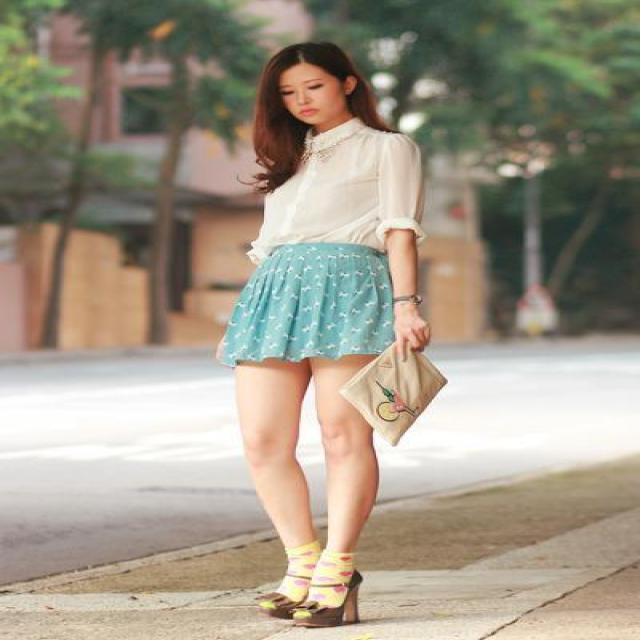bag: (338, 330, 440, 440)
shirt: (250, 120, 419, 264)
shoe: (266, 576, 371, 627)
skirt: (195, 241, 402, 377)
